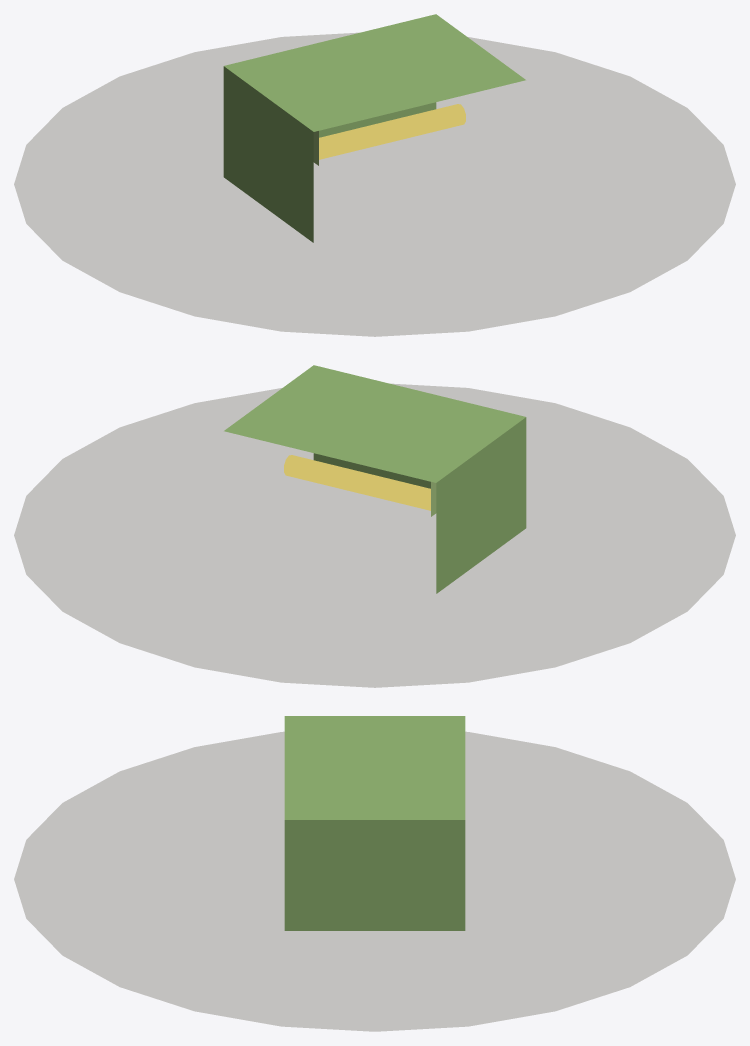
The model's file is tamal.glb.
The picture shows the model from 3 angles, top to bottom: view 1: azimuth 30°, elevation 25°; view 2: azimuth 150°, elevation 25°; view 3: azimuth 270°, elevation 25°; orthographic projection.
Visible parts, largest first — view 1: plato, hoja, amarre; view 2: plato, hoja, amarre; view 3: plato, hoja.
Part boxes in pixels (x1=…): plato: x1=14, y1=32, x2=735, y2=336; hoja: x1=223, y1=14, x2=525, y2=242; amarre: x1=319, y1=104, x2=465, y2=159; plato: x1=14, y1=383, x2=735, y2=687; hoja: x1=224, y1=365, x2=526, y2=593; amarre: x1=284, y1=455, x2=430, y2=510; plato: x1=14, y1=731, x2=735, y2=1031; hoja: x1=284, y1=716, x2=465, y2=930.
Size of the model in its own units: 2 by 0.43 by 2.
